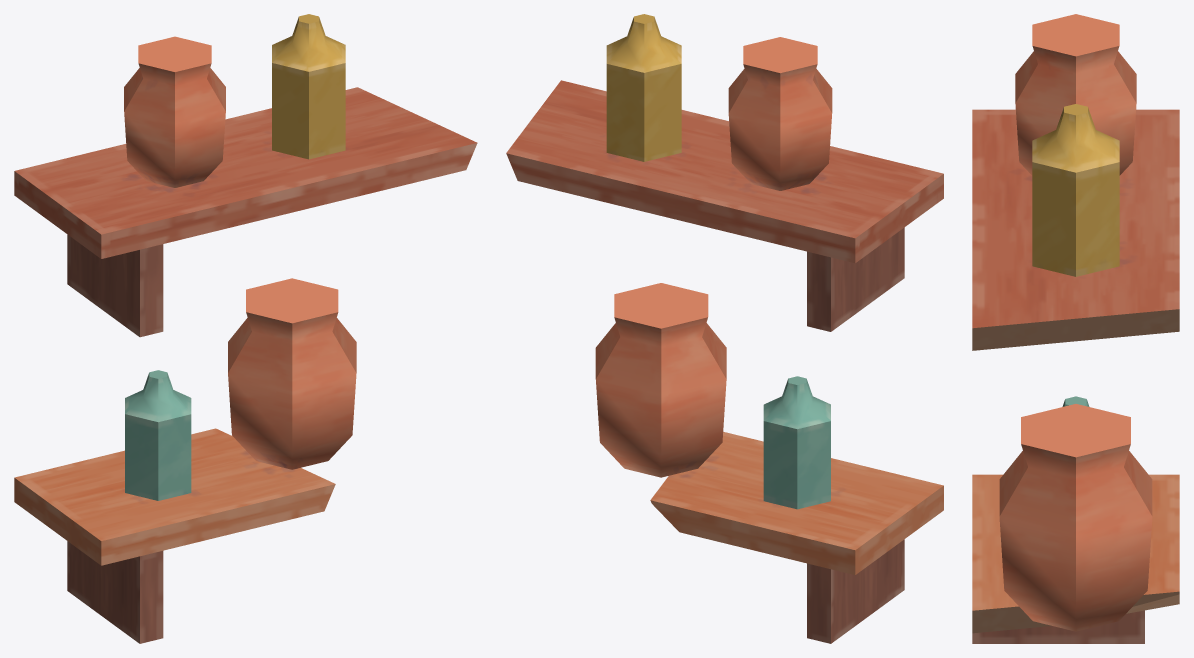
Rendered from shelf_s04.fbx.
3 views of the same model, side by side, from view 1: azimuth 30°, elevation 25°; view 2: azimuth 150°, elevation 25°; view 3: azimuth 270°, elevation 25° (orthographic). The views are drawn at different scales.
Visible parts, largest first — view 1: shelf_s04; view 2: shelf_s04; view 3: shelf_s04.
Part boxes in pixels (left/top/right/bottom): shelf_s04: left=14, top=14, right=477, bottom=643; shelf_s04: left=506, top=14, right=943, bottom=643; shelf_s04: left=972, top=14, right=1179, bottom=643.
Bounding box in the file's own units: 2.25 × 3.09 × 0.9.
